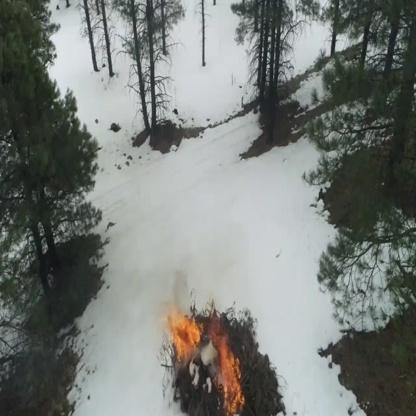Fire: (222, 356, 243, 416), (176, 318, 201, 347), (212, 318, 225, 344), (218, 336, 230, 356), (176, 345, 188, 357), (167, 318, 174, 333)
